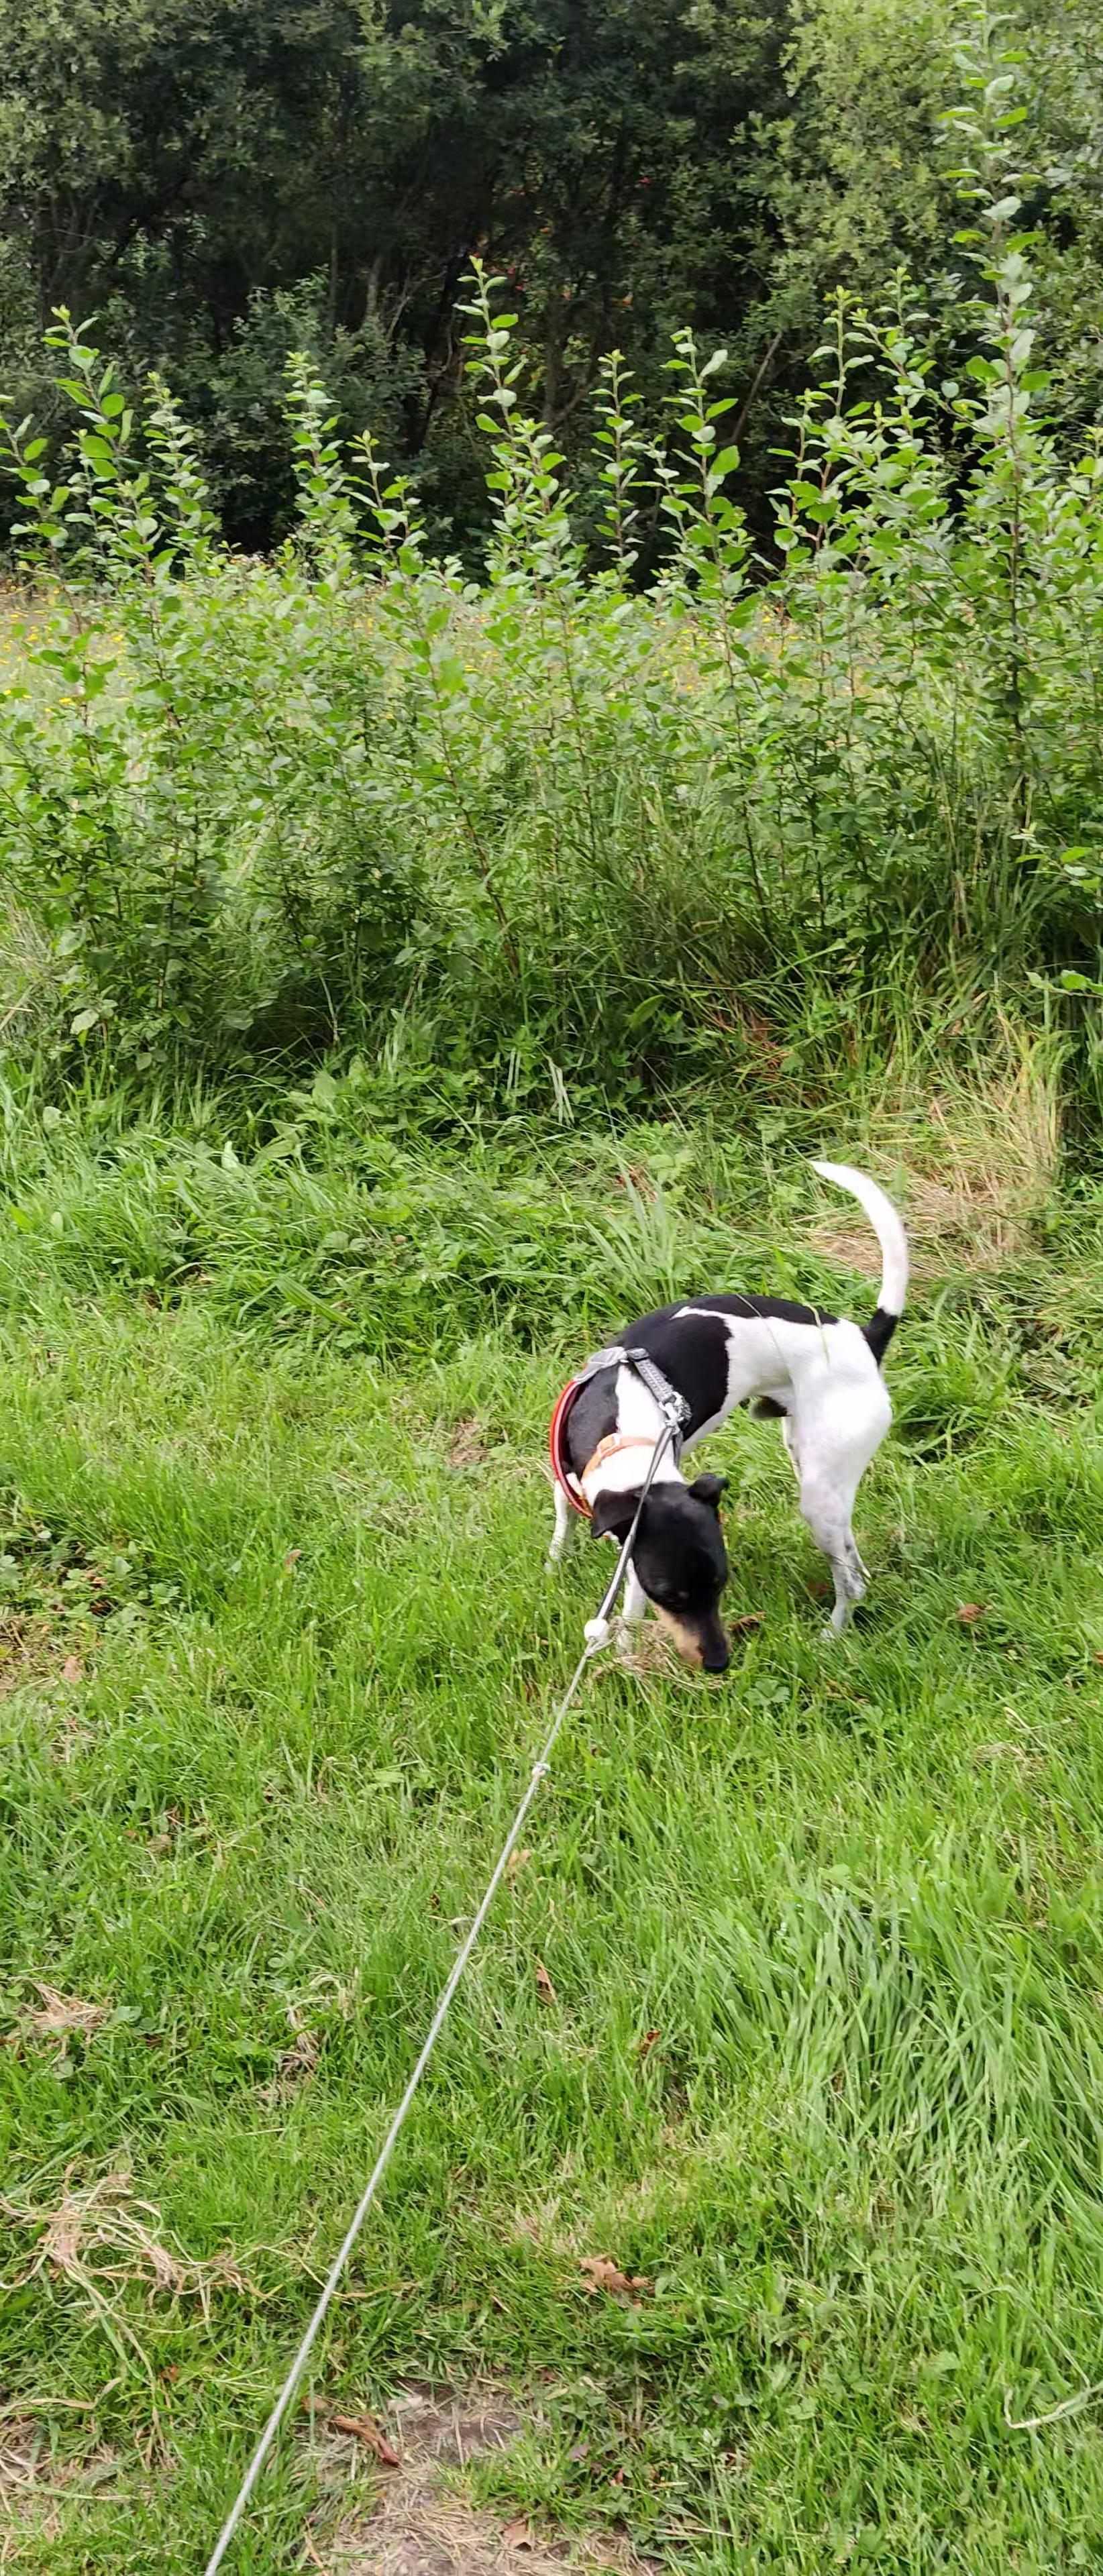Dog: (511, 1155, 924, 1694)
